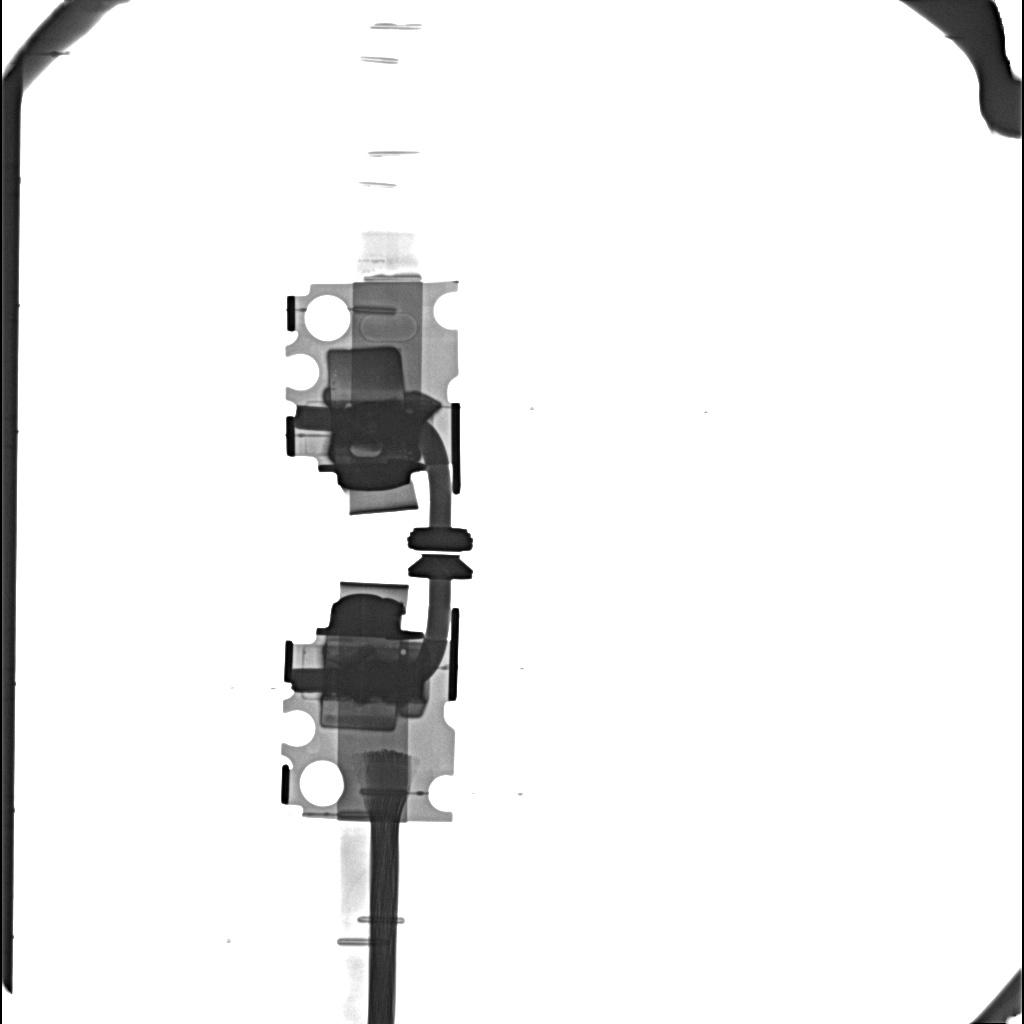PX: (327, 346, 406, 401), (318, 699, 399, 732)
QP: (349, 446, 383, 457)
SX: (326, 651, 423, 702), (332, 400, 440, 443)
